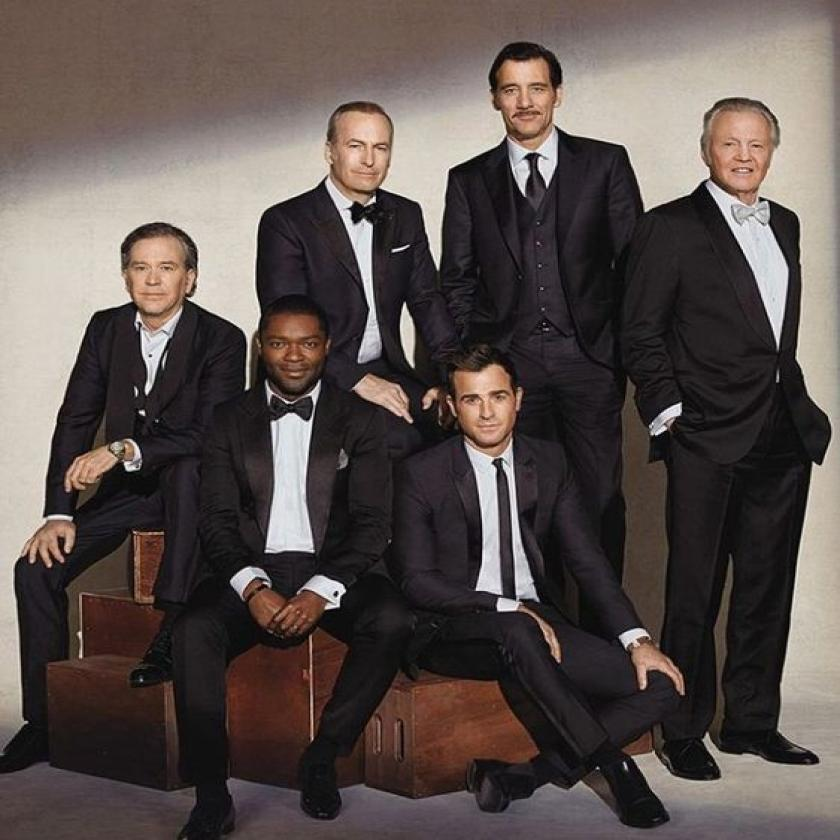Sin_casco: (115, 219, 206, 341), (439, 338, 530, 459), (248, 290, 339, 409), (696, 96, 787, 214), (485, 37, 570, 160), (326, 98, 400, 194)
